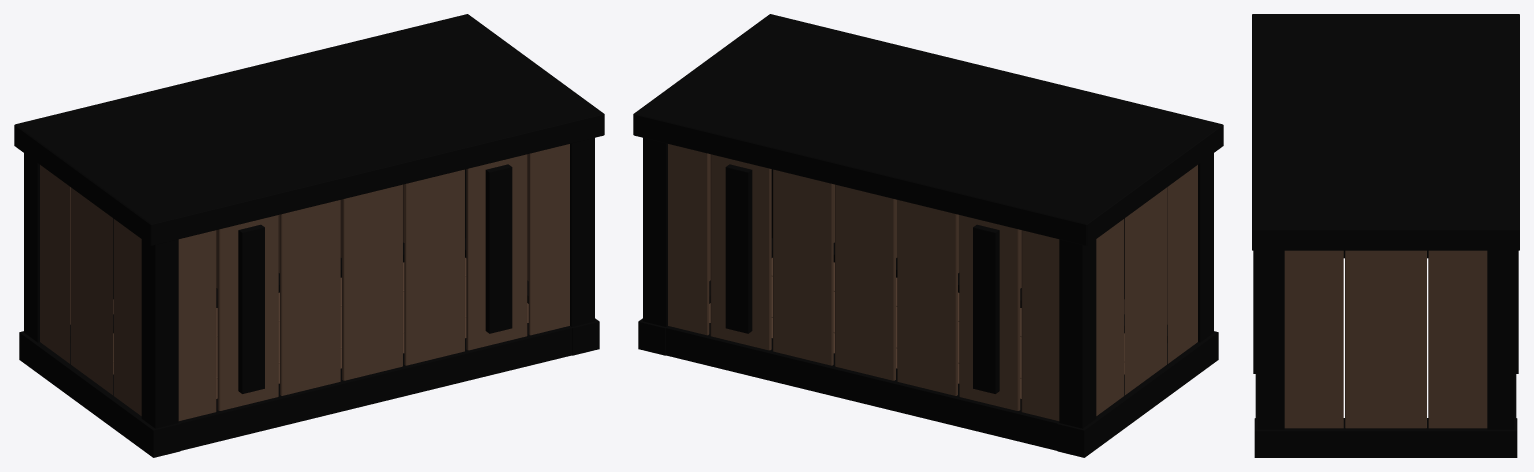
Rendered from LargeCrate.fbx.
3 views of the same model, side by side, from view 1: azimuth 30°, elevation 25°; view 2: azimuth 150°, elevation 25°; view 3: azimuth 270°, elevation 25° (orthographic). The views are drawn at different scales.
Parts seen in each view (by area): view 1: LargeCrate; view 2: LargeCrate; view 3: LargeCrate.
Boxes of the visible parts, left/top/right/bottom form: LargeCrate: left=14, top=14, right=604, bottom=457; LargeCrate: left=633, top=14, right=1223, bottom=457; LargeCrate: left=1252, top=14, right=1519, bottom=457.
Bounding box in the file's own units: 1.53 × 0.7593 × 0.8014.
